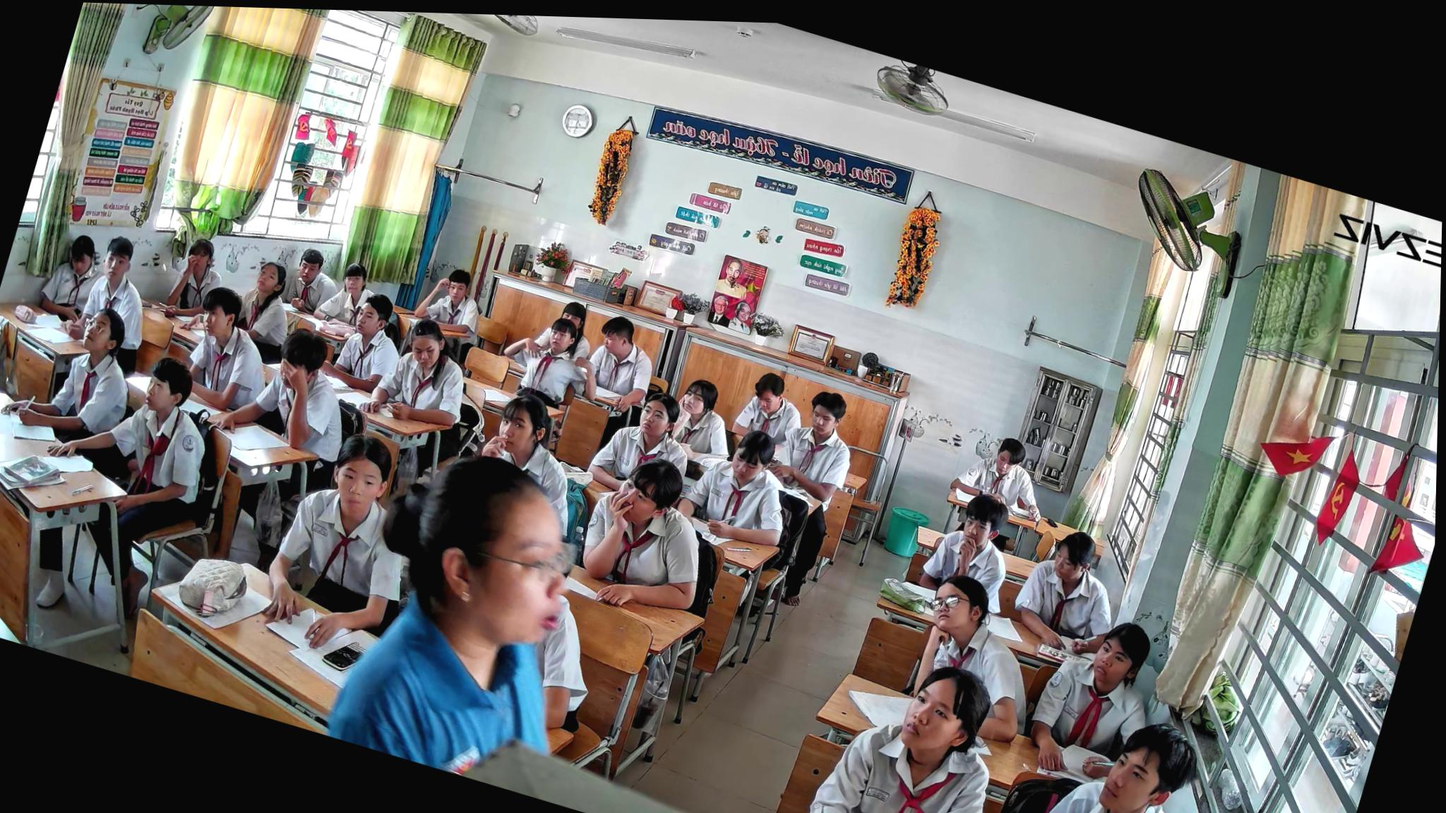person: (318, 429, 631, 802), (4, 330, 233, 642), (250, 419, 448, 672), (792, 636, 1024, 813), (733, 380, 871, 613), (566, 440, 732, 630), (200, 309, 373, 490), (972, 684, 1211, 813), (1016, 602, 1173, 795), (894, 567, 1056, 749), (340, 304, 486, 491), (0, 285, 155, 459), (460, 378, 605, 541), (670, 413, 810, 558), (1003, 518, 1136, 666), (167, 280, 293, 425), (561, 310, 666, 475), (503, 588, 612, 741), (912, 481, 1030, 619), (584, 377, 706, 509), (60, 232, 170, 377), (492, 302, 615, 420), (313, 282, 417, 405), (947, 425, 1061, 524), (226, 256, 306, 369), (727, 366, 813, 466), (33, 227, 114, 332), (663, 374, 747, 469), (158, 231, 232, 330), (410, 259, 495, 342), (274, 243, 348, 323), (311, 255, 379, 335), (529, 292, 603, 364)
